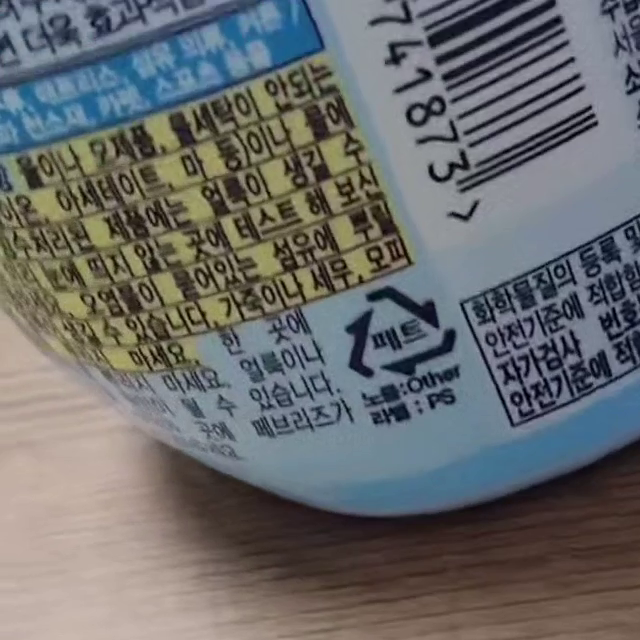Plastic: (344, 283, 457, 378)
